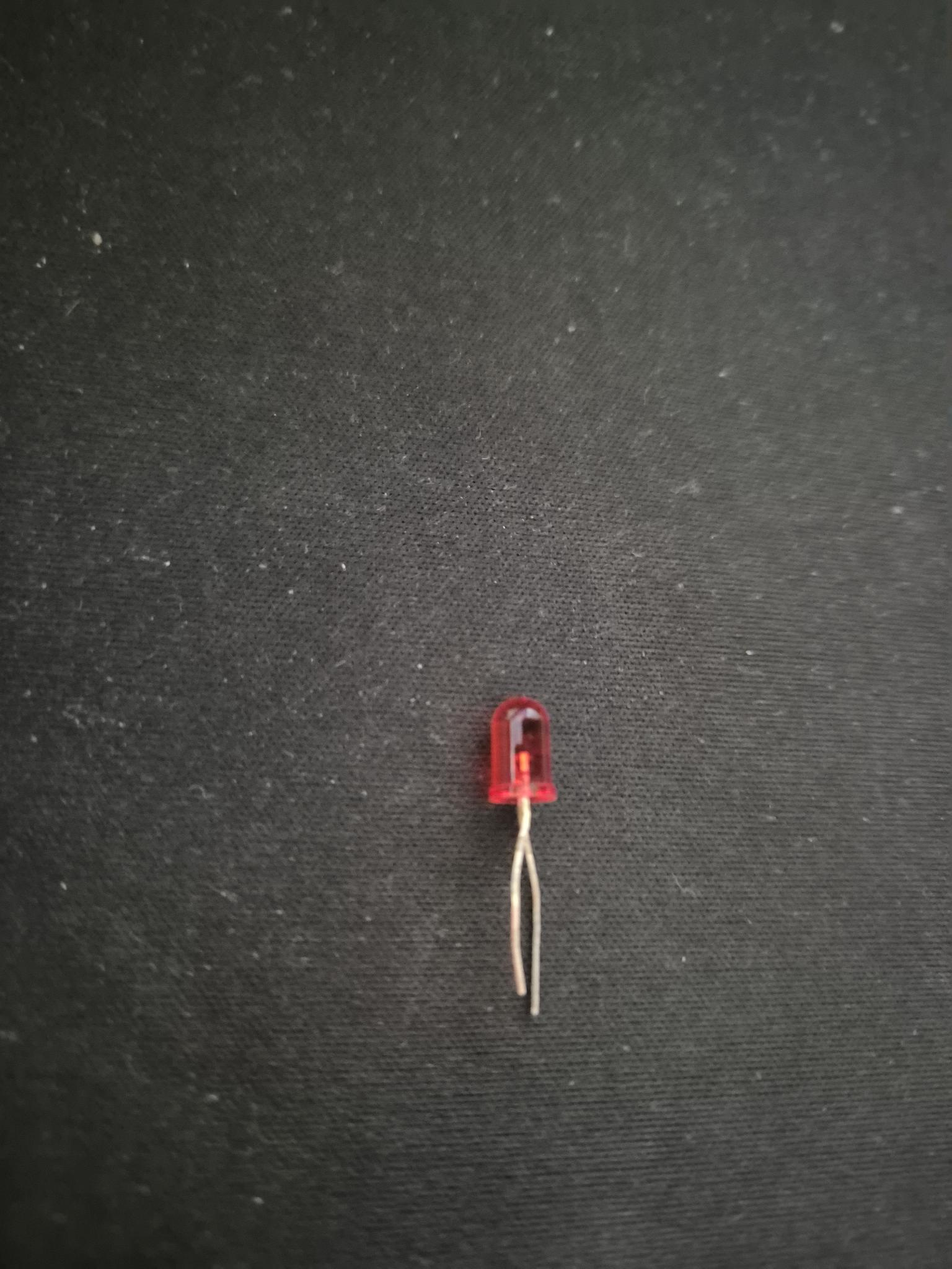led-diode: (488, 696, 556, 1016)
